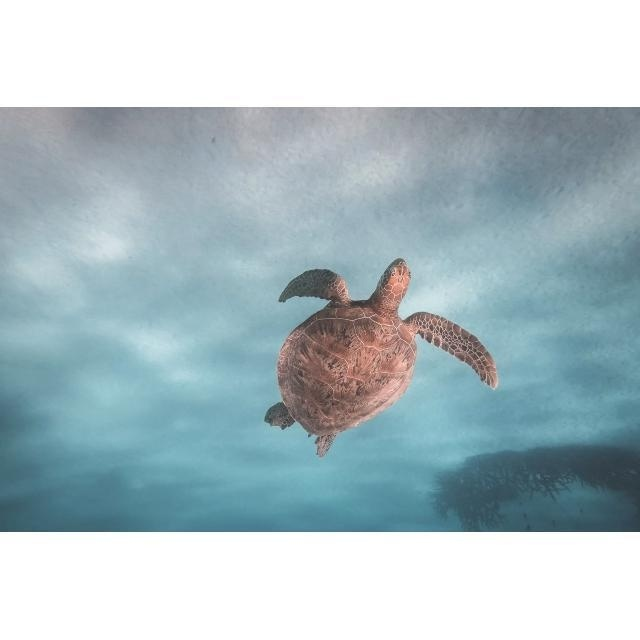turtle: (264, 256, 497, 459)
